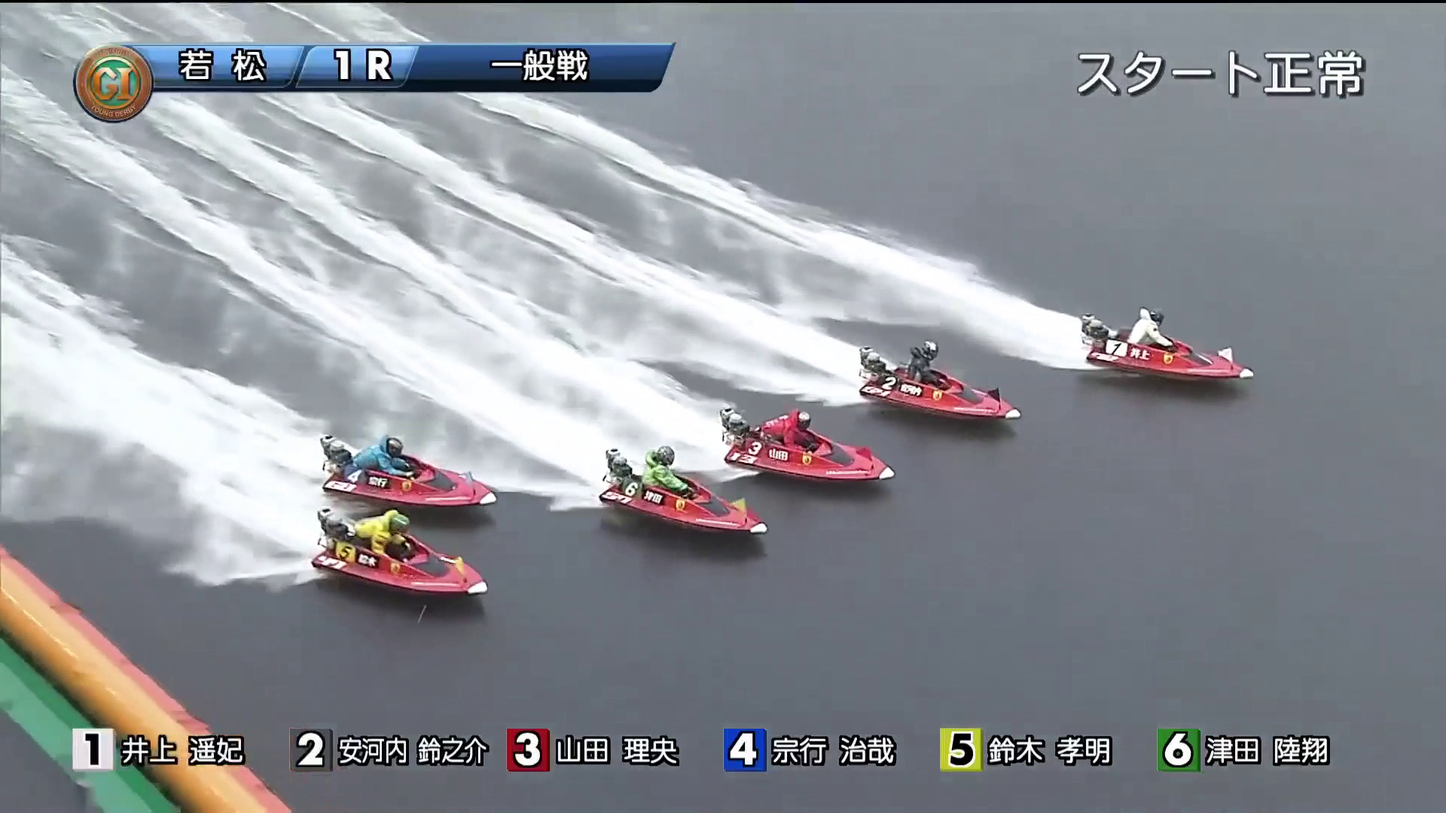１号艇: (1083, 331, 1221, 384)
２号艇: (860, 355, 989, 415)
３号艇: (751, 426, 892, 468)
４号艇: (618, 465, 738, 530)
５号艇: (337, 446, 460, 501)
６号艇: (380, 542, 480, 598)
